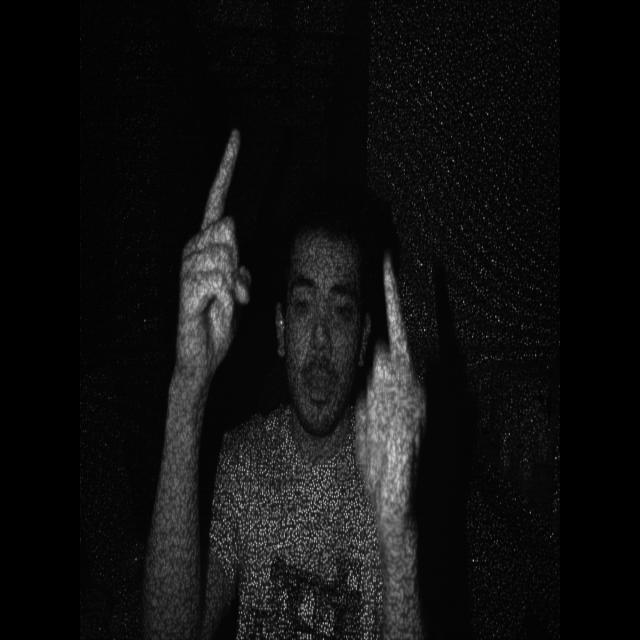STARS: (166, 112, 265, 413), (352, 249, 428, 539)
